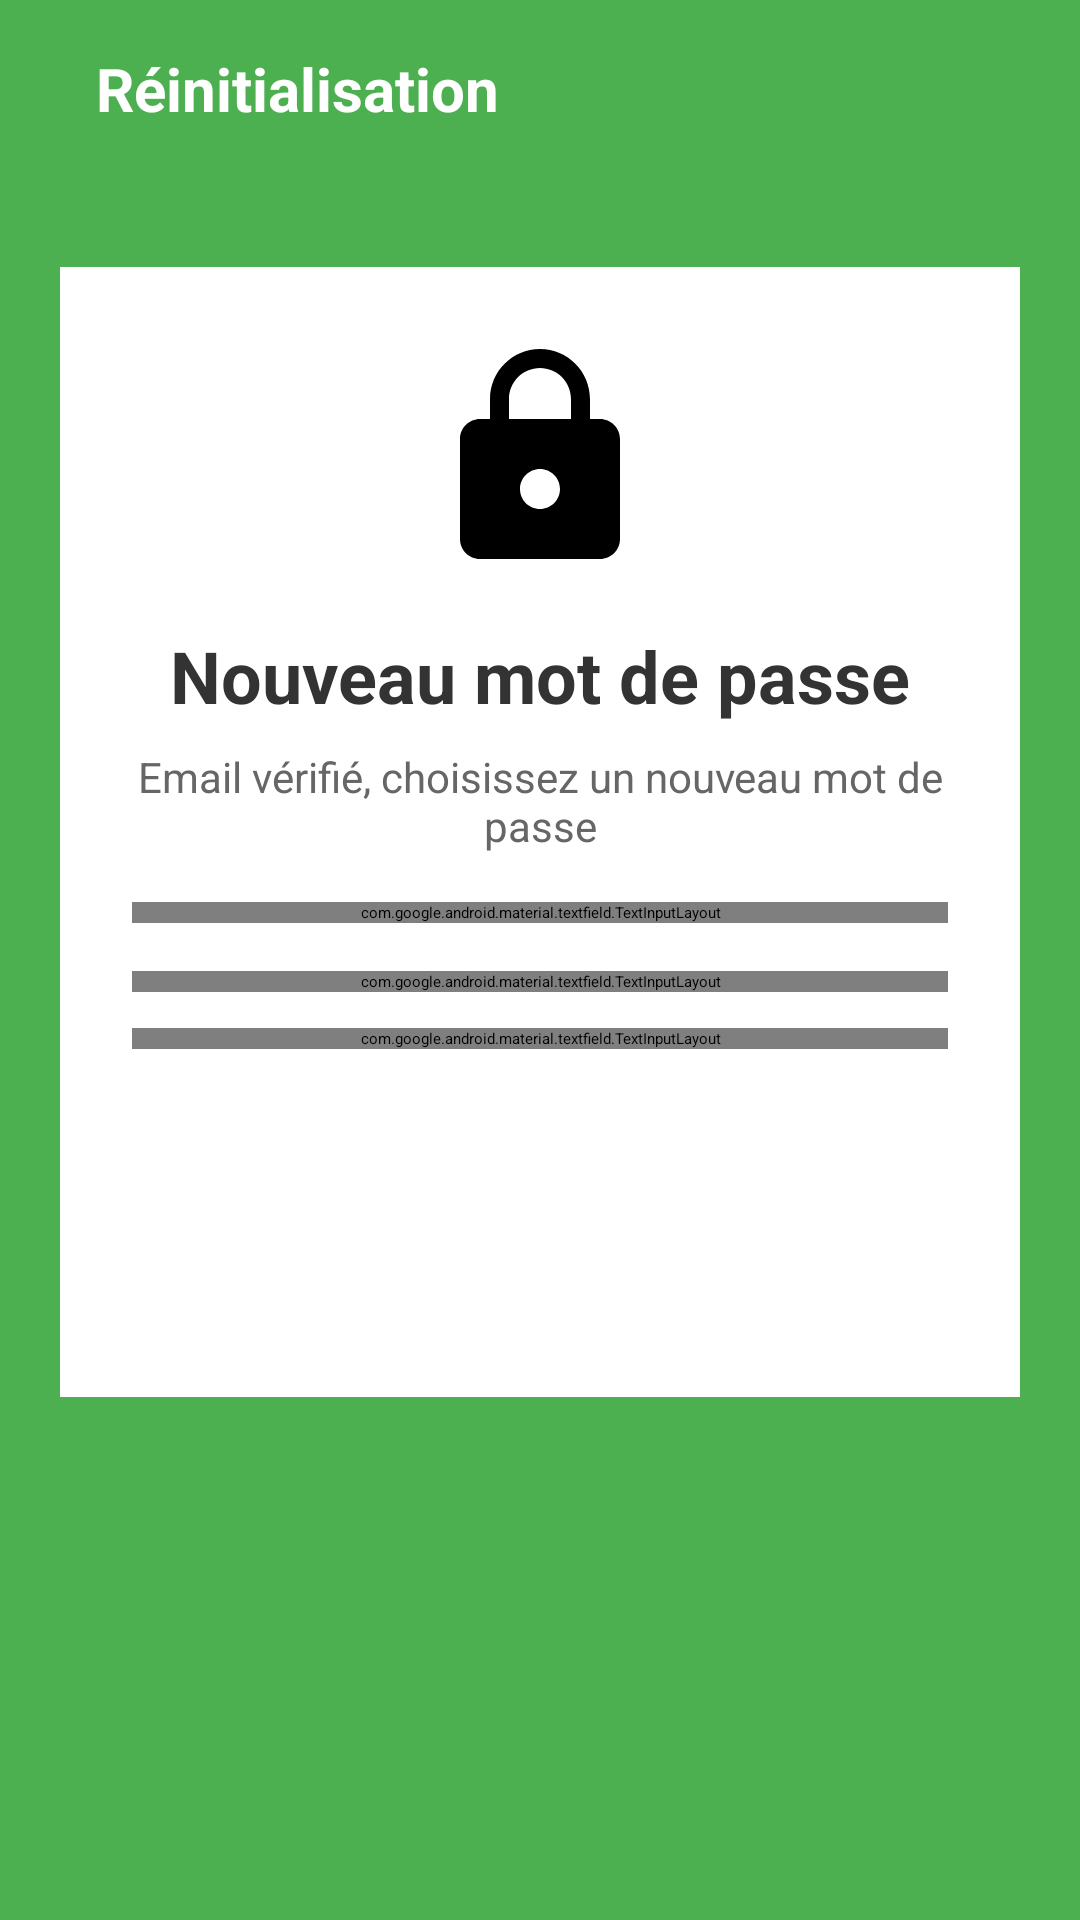

Where to tap for icons on this 1080*1920 app screen, as point (x, y):
lock: point (540, 454)
